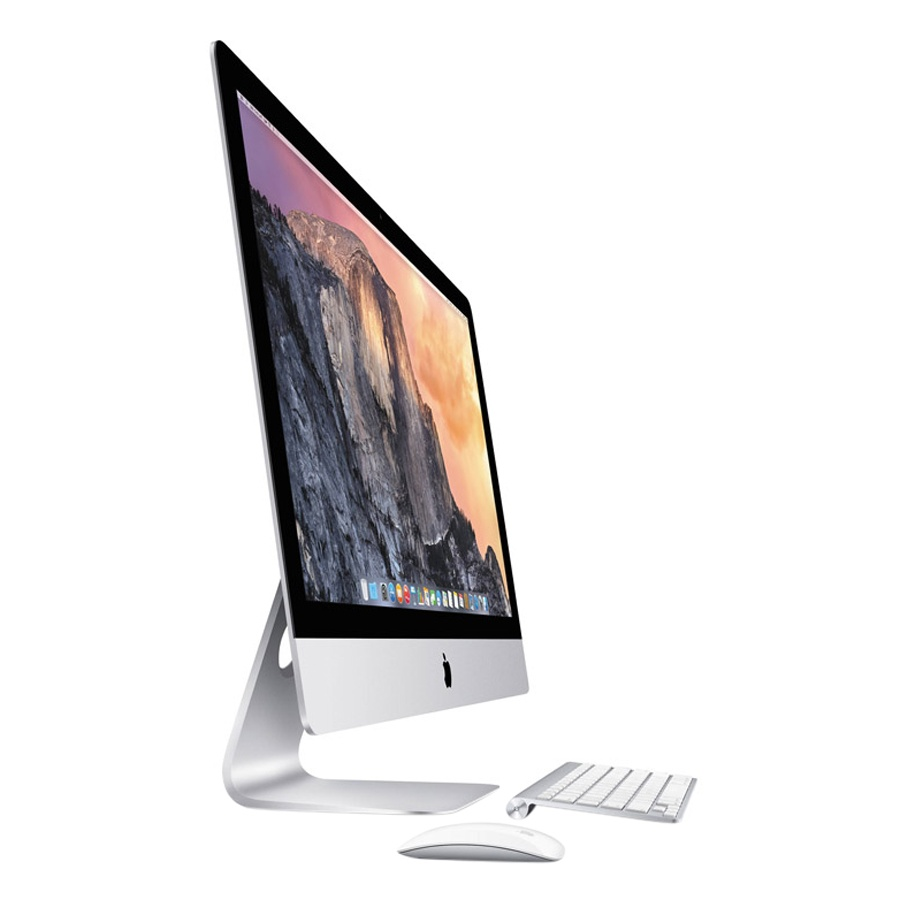Apple: (381, 620, 510, 727)
